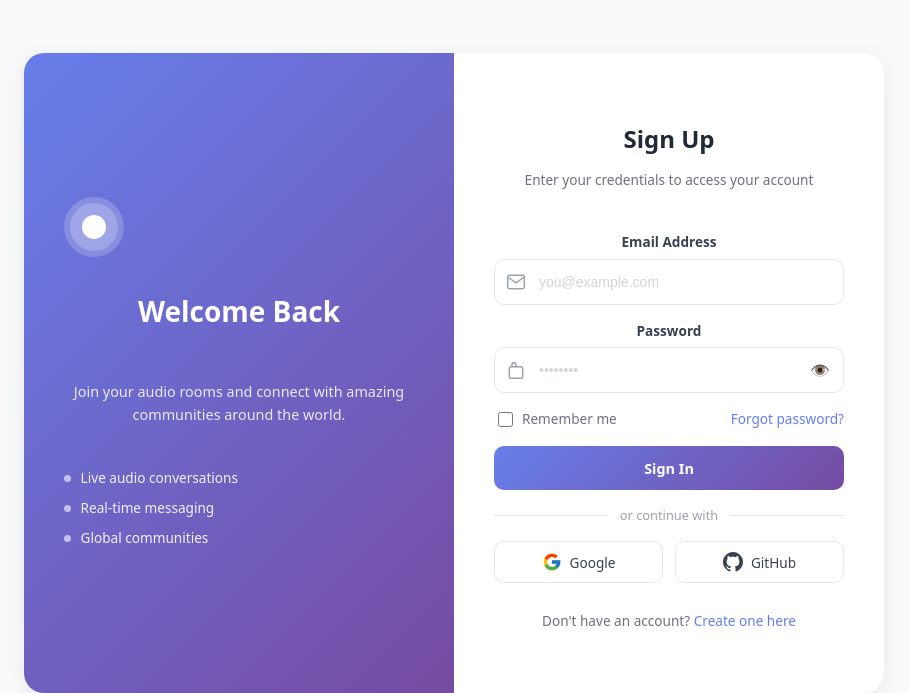
it: <login /> › if password is available
Type "nkelechi21@gmail.com" into the field labelled "Email Address". click: (669, 282)
box: [494, 259, 844, 305]
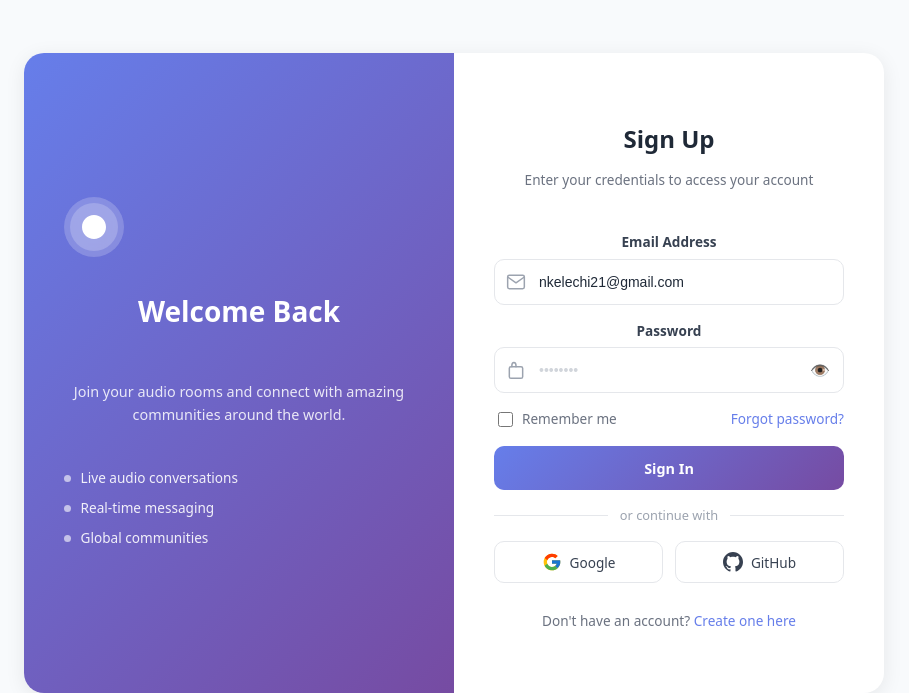
Click the button with test id "createaccount". click: (669, 468)
box: [494, 446, 844, 490]
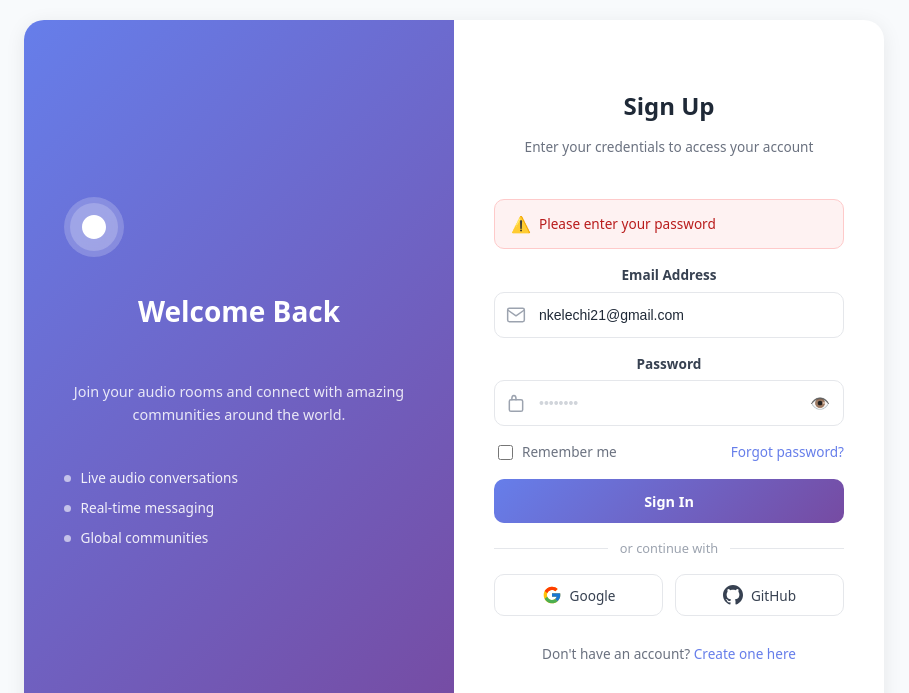
Check: the text with test id "loginerr" reads "Please enter your password", box [539, 214, 716, 233]
